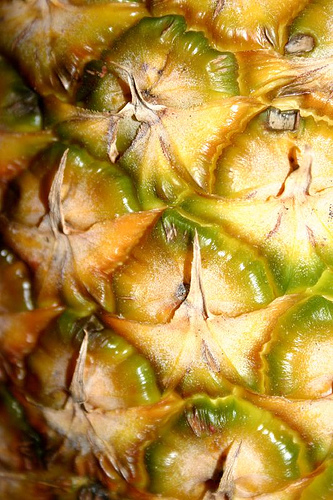pineapple: (1, 0, 325, 493)
